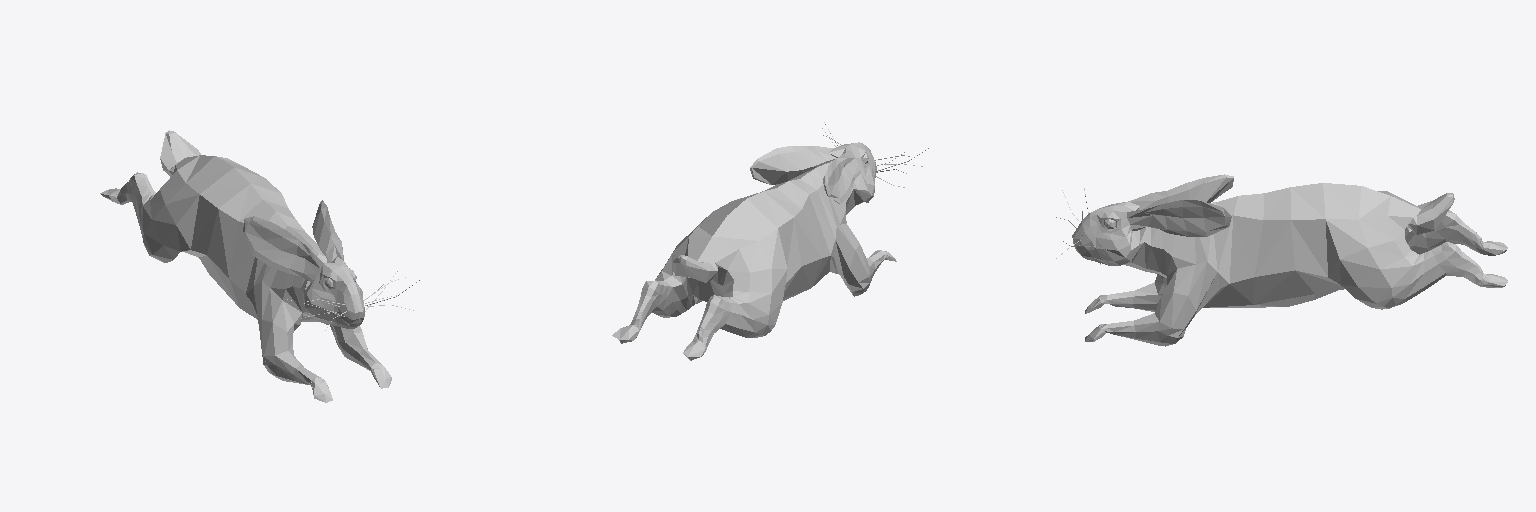
Rendered from rabbit_7.obj.
3 renders of one model, left to right at view 1: azimuth 30°, elevation 25°; view 2: azimuth 150°, elevation 25°; view 3: azimuth 270°, elevation 25°, orthographic.
Parts seen in each view (by area): view 1: Rabbit_Cylinder; view 2: Rabbit_Cylinder; view 3: Rabbit_Cylinder.
Boxes of the visible parts, box(x1,y1,x2,y2) form: Rabbit_Cylinder: box(100, 130, 419, 402); Rabbit_Cylinder: box(612, 122, 928, 360); Rabbit_Cylinder: box(1056, 174, 1507, 346).
Size of the model in its own units: 7.04 by 8.67 by 24.55.